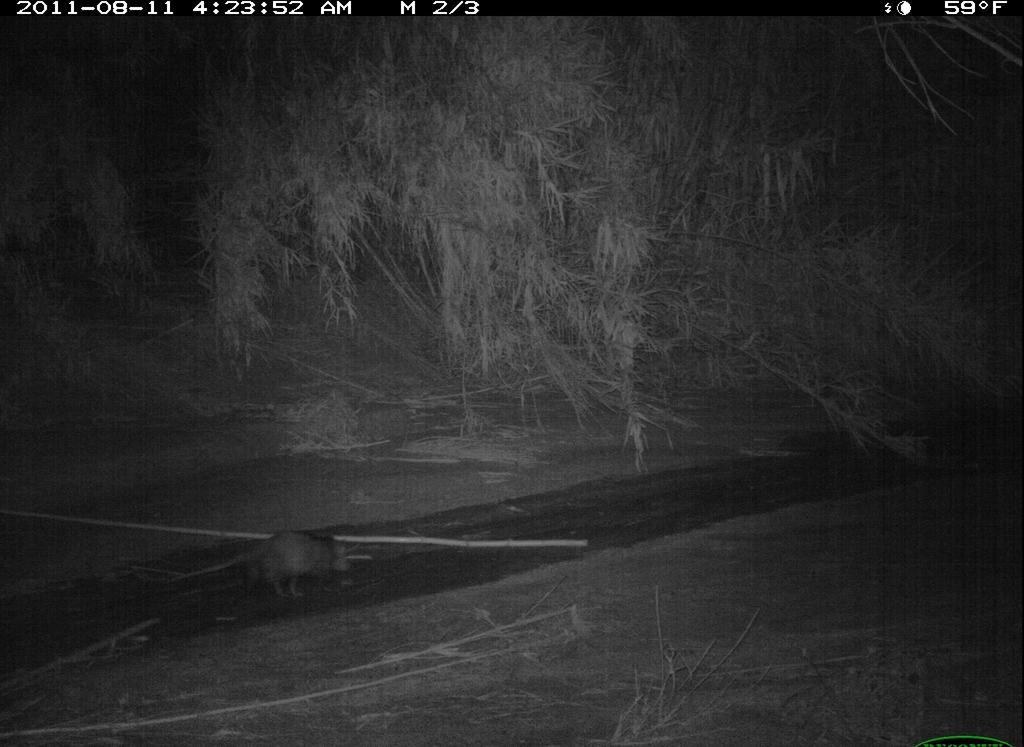opossum: (164, 523, 365, 615)
